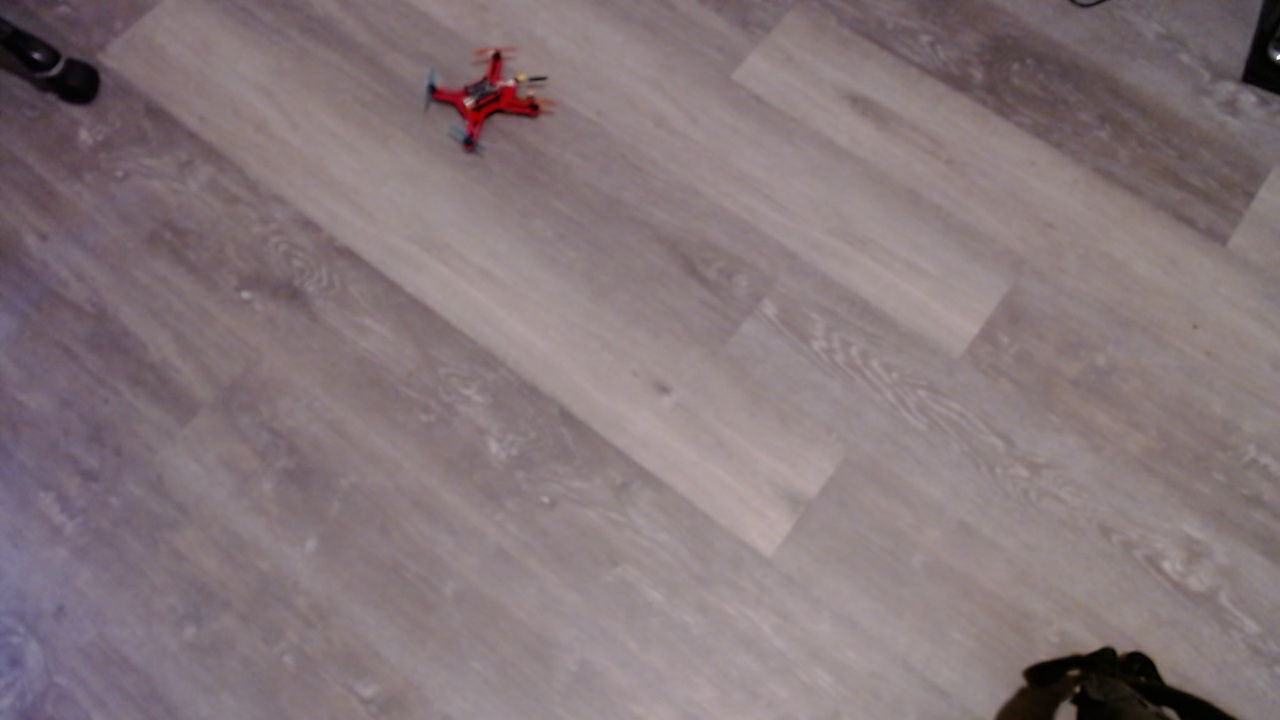crazyflie: (424, 45, 552, 154)
